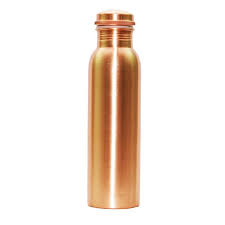bottle: (85, 7, 144, 212)
